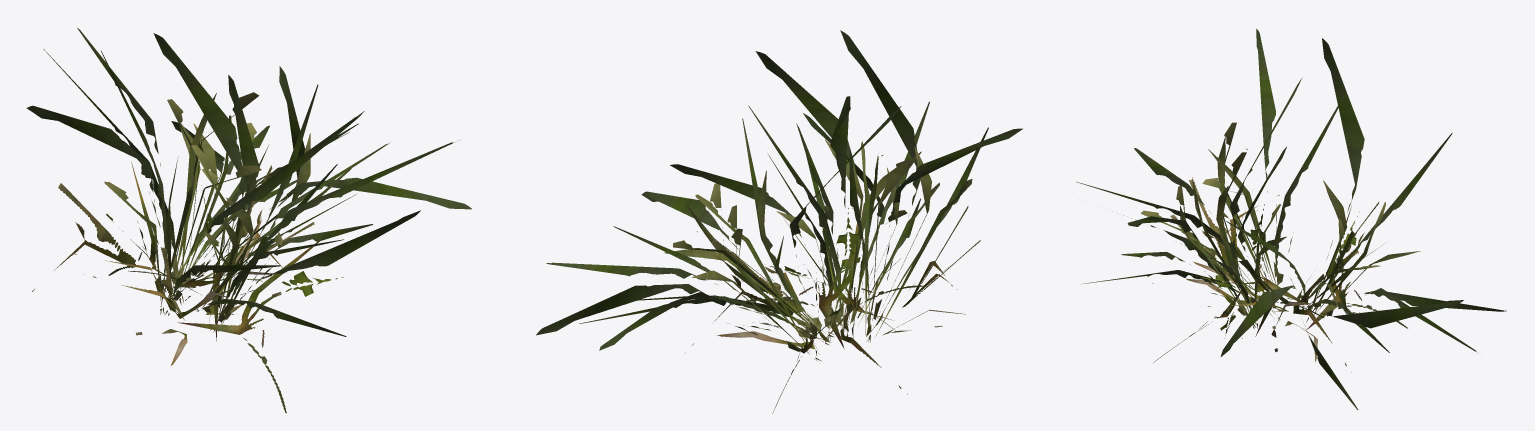
3 renders of one model, left to right at view 1: azimuth 30°, elevation 25°; view 2: azimuth 150°, elevation 25°; view 3: azimuth 270°, elevation 25°, orthographic. The views are drawn at different scales.
Visible parts, largest first — view 1: grass_medium_01__d_lod1; view 2: grass_medium_01__d_lod1; view 3: grass_medium_01__d_lod1.
Part boxes in pixels (x1,y1,x2,y2): grass_medium_01__d_lod1: (26, 28, 471, 413); grass_medium_01__d_lod1: (536, 30, 1022, 413); grass_medium_01__d_lod1: (1076, 29, 1506, 409).
Bounding box in the file's own units: 0.1985 × 0.1501 × 0.2098.
1 material, 1 textured.
